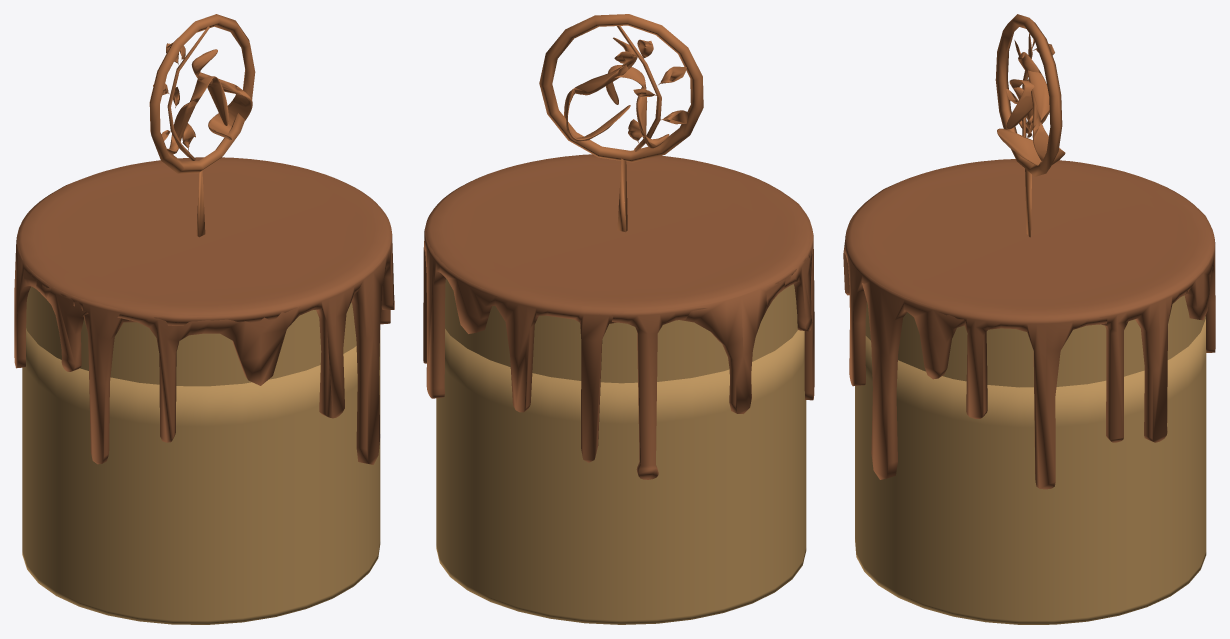
The model's file is 1-tier-caramel-ganache-ring.glb.
3 renders of one model, left to right at view 1: azimuth 30°, elevation 25°; view 2: azimuth 150°, elevation 25°; view 3: azimuth 270°, elevation 25°, orthographic.
Visible parts, largest first — view 1: Cylinder.019, tHE ICING, Cylinder.017; view 2: Cylinder.019, tHE ICING, Cylinder.017; view 3: Cylinder.019, tHE ICING, Cylinder.017.
Boxes of the visible parts, x1=… form: Cylinder.019: x1=22, y1=286, x2=380, y2=624; tHE ICING: x1=14, y1=157, x2=394, y2=464; Cylinder.017: x1=149, y1=14, x2=255, y2=237; Cylinder.019: x1=436, y1=278, x2=806, y2=624; tHE ICING: x1=423, y1=154, x2=814, y2=479; Cylinder.017: x1=539, y1=14, x2=703, y2=232; Cylinder.019: x1=855, y1=295, x2=1206, y2=624; tHE ICING: x1=843, y1=159, x2=1215, y2=489; Cylinder.017: x1=995, y1=14, x2=1065, y2=237.
Bounding box in the file's own units: 2.8 × 4.23 × 2.71.
